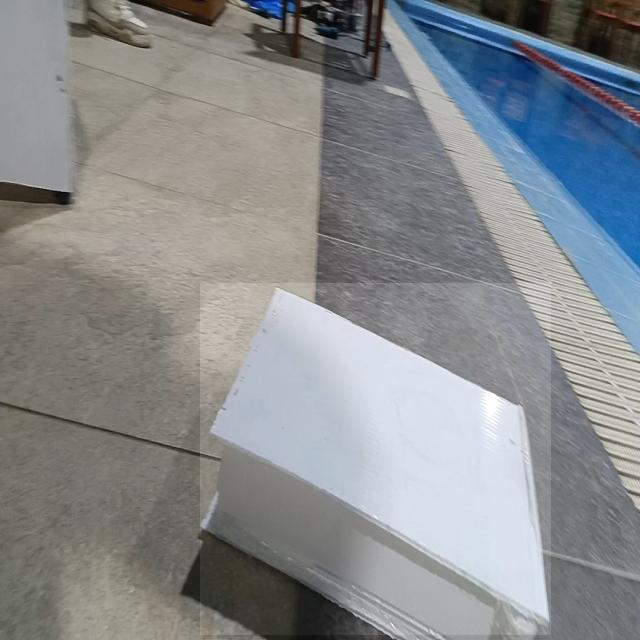Cuboid: (200, 283, 551, 635)
